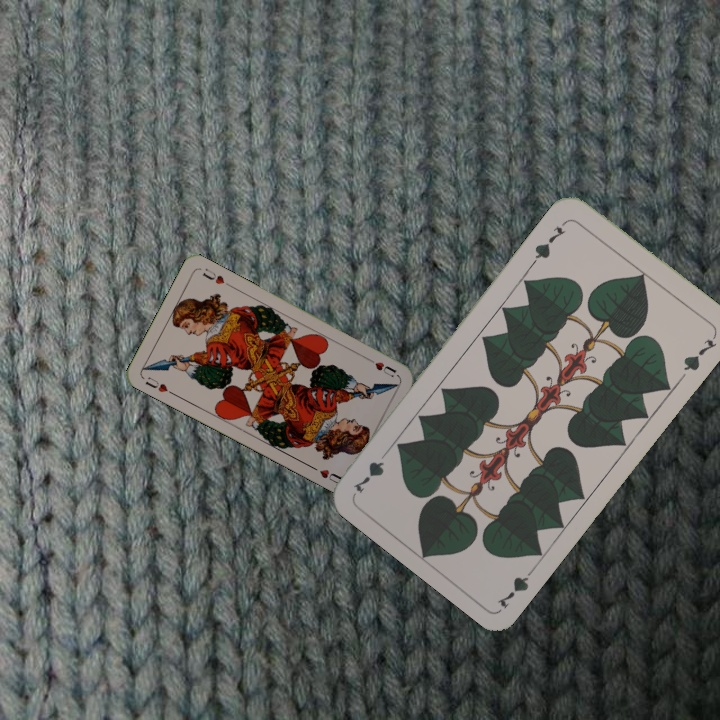G7: (493, 561, 540, 611), (529, 222, 568, 266)
HU: (363, 354, 399, 380), (141, 373, 177, 397)
